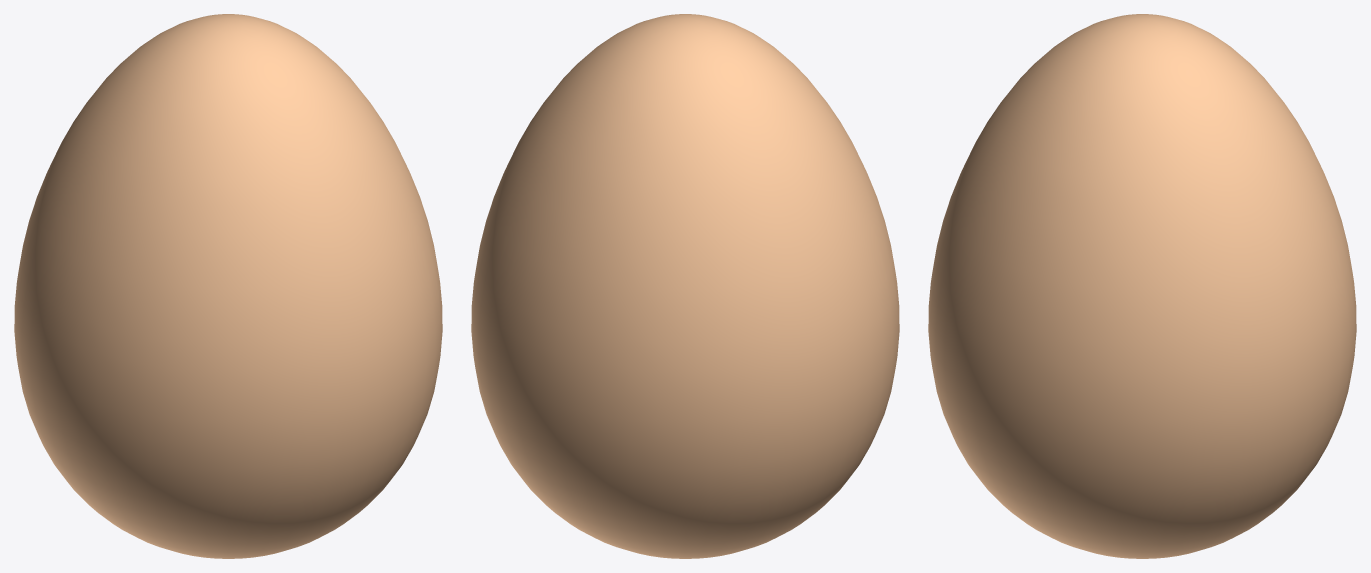
3 renders of one model, left to right at view 1: azimuth 30°, elevation 25°; view 2: azimuth 150°, elevation 25°; view 3: azimuth 270°, elevation 25°, orthographic.
Visible parts, largest first — view 1: egg; view 2: egg; view 3: egg.
Boxes of the visible parts, box(x1,y1,x2,y2) form: egg: box(14, 14, 442, 558); egg: box(471, 14, 899, 558); egg: box(928, 14, 1356, 558).
Size of the model in its own units: 0.0419 by 0.0556 by 0.0419.
Materials: 1 (1 with a texture image).
